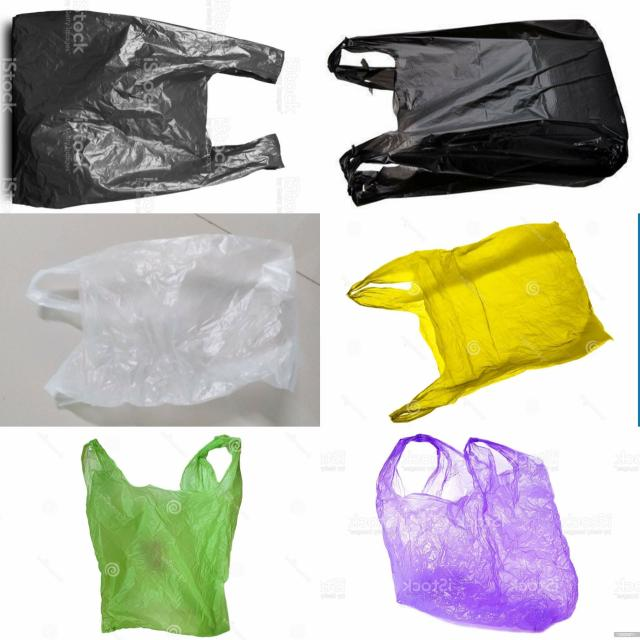Single-layer Plastic: (328, 20, 628, 205), (10, 10, 284, 207), (348, 222, 610, 422), (26, 235, 298, 406), (377, 435, 578, 631), (81, 435, 243, 636)
